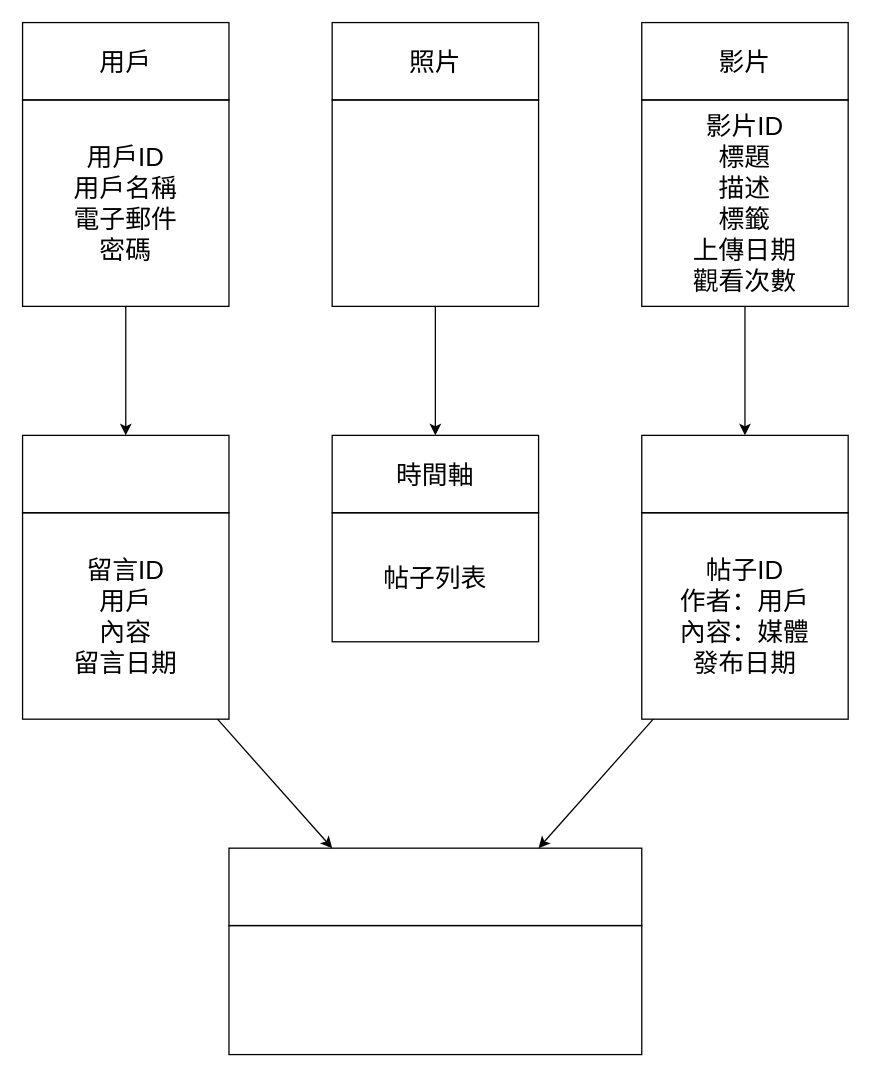
This 871x1077 diagram has some shape labels left out. The shapes that lost their labels are listed below. From the top down, each one's box as (x1, y1, x2, y2) in pixels, then its label:
(331, 99, 539, 306): 照片ID 標題 描述 標籤 上傳日期 喜歡數量
(21, 434, 229, 513): 留言
(640, 434, 848, 513): 帖子
(228, 847, 642, 926): 媒體
(228, 924, 642, 1055): 媒體ID 文件類型：照片、影片 上傳路徑
